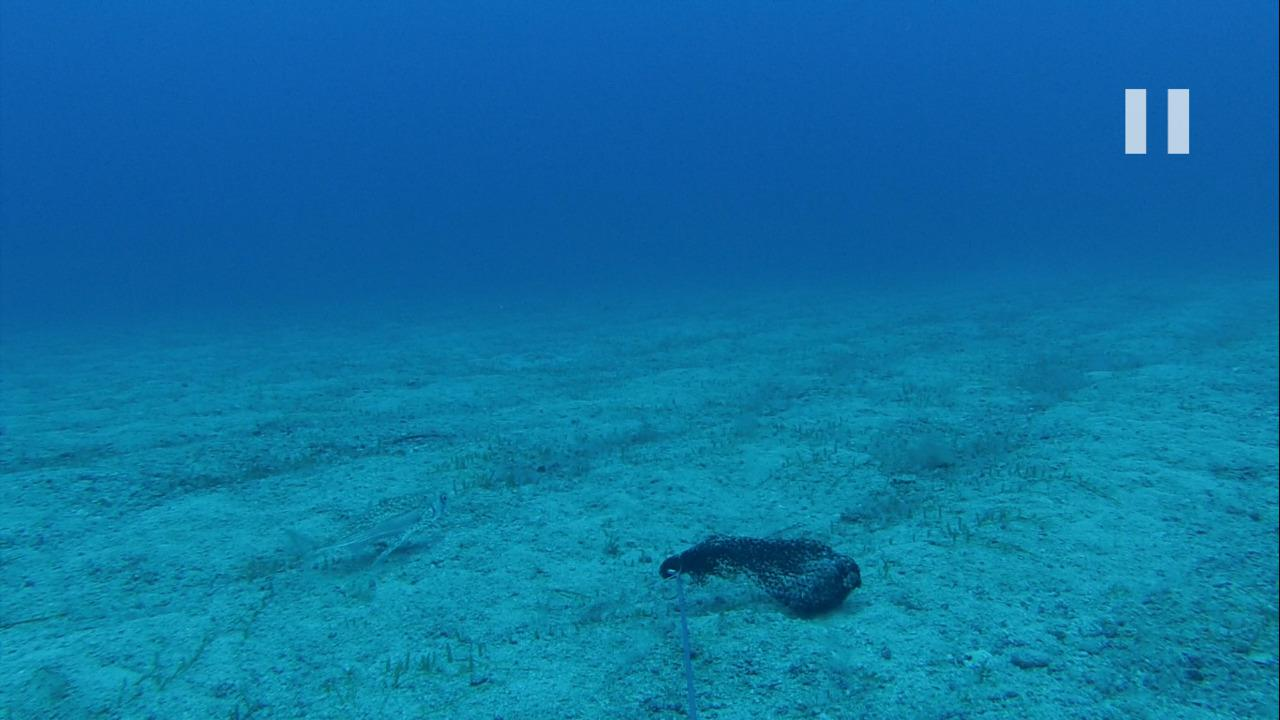dactylopterus: (281, 485, 469, 594)
